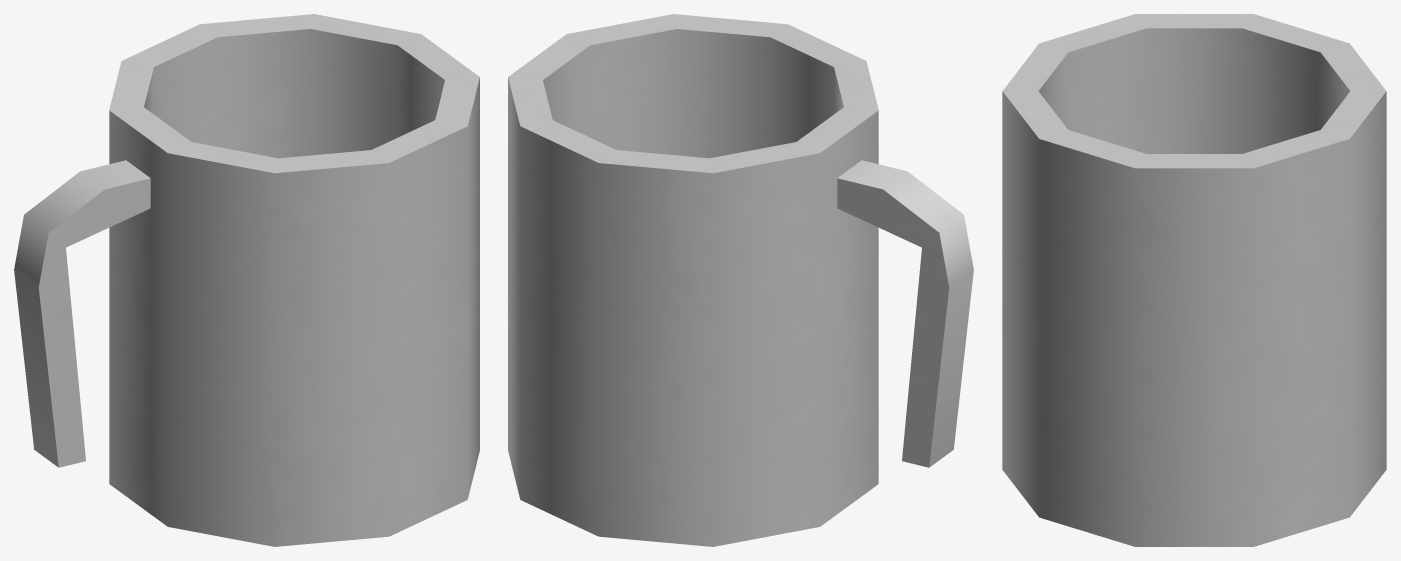
Rendered from Cup 6.fbx.
The picture shows the model from 3 angles, left to right: view 1: azimuth 30°, elevation 25°; view 2: azimuth 150°, elevation 25°; view 3: azimuth 270°, elevation 25°; orthographic projection.
Visible parts, largest first — view 1: Cup_6; view 2: Cup_6; view 3: Cup_6.
Boxes of the visible parts, bbox=[...] form: Cup_6: bbox=[14, 14, 479, 546]; Cup_6: bbox=[508, 14, 973, 546]; Cup_6: bbox=[1002, 14, 1386, 546].
Bounding box in the file's own units: 0.0688 × 0.0579 × 0.0532.
